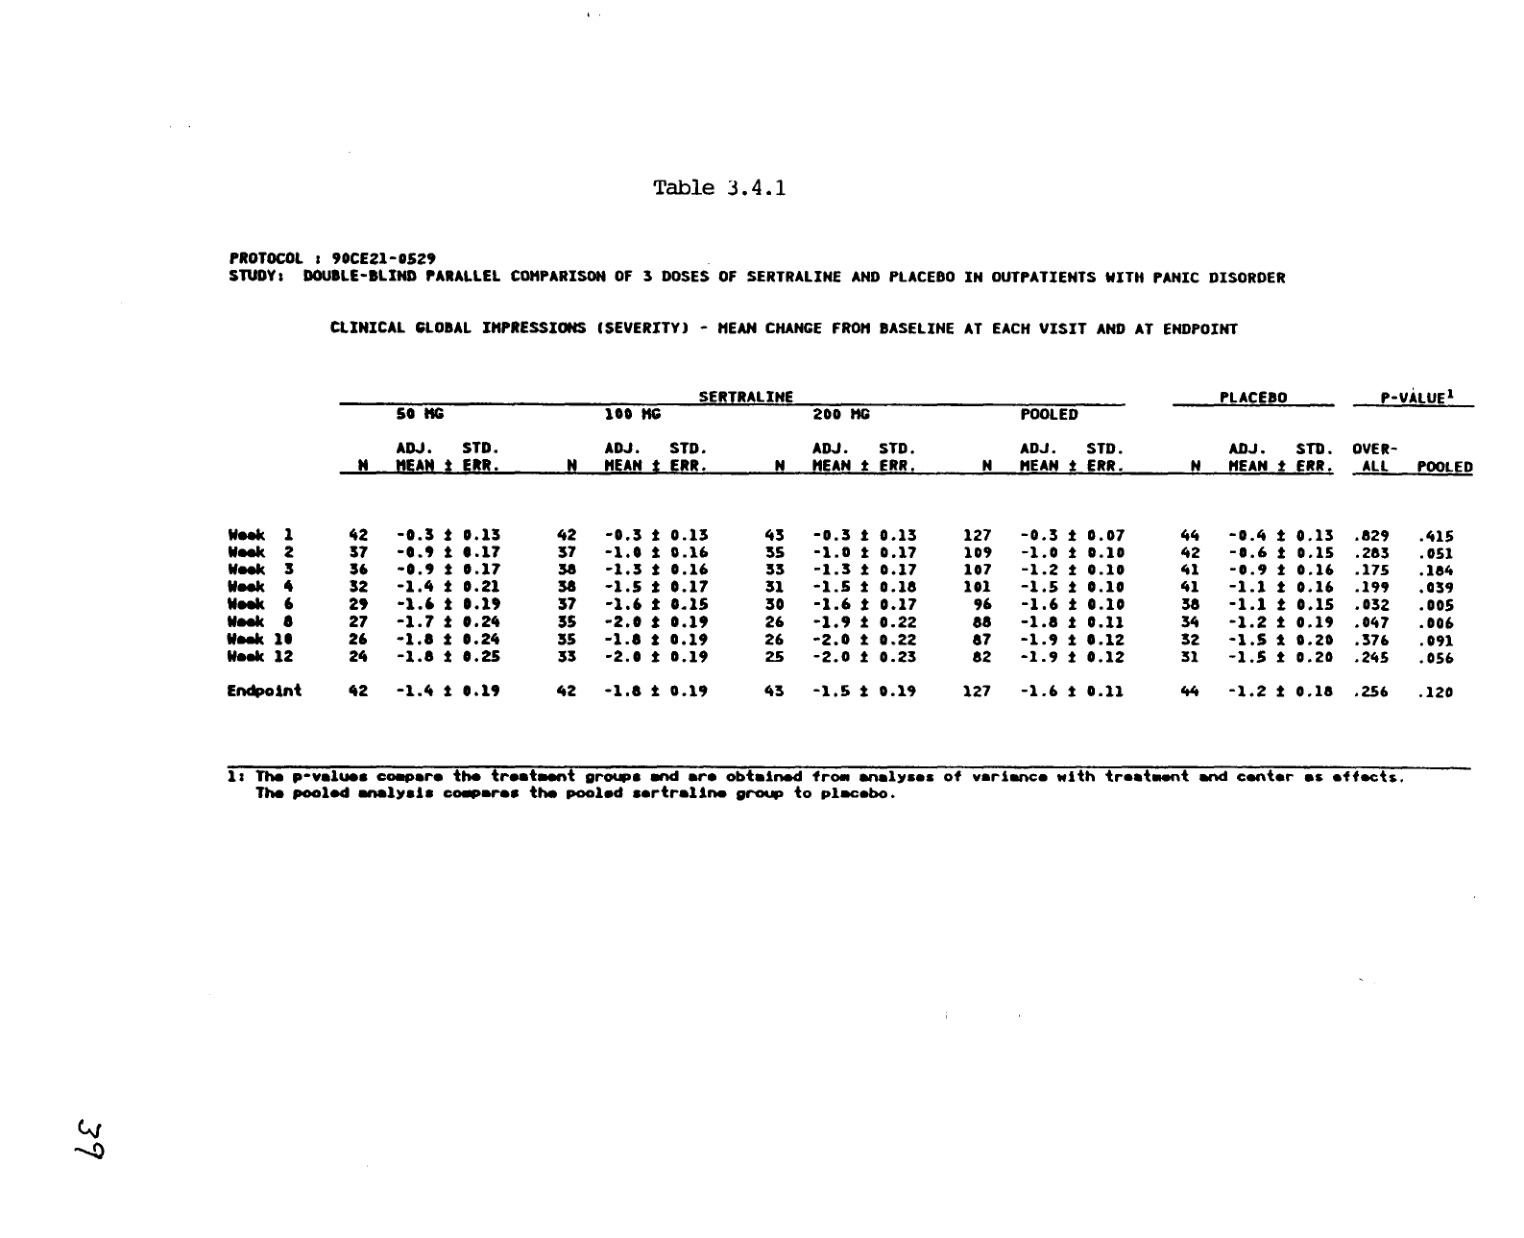partial_lined_merged_cells: (223, 388, 1472, 774)
